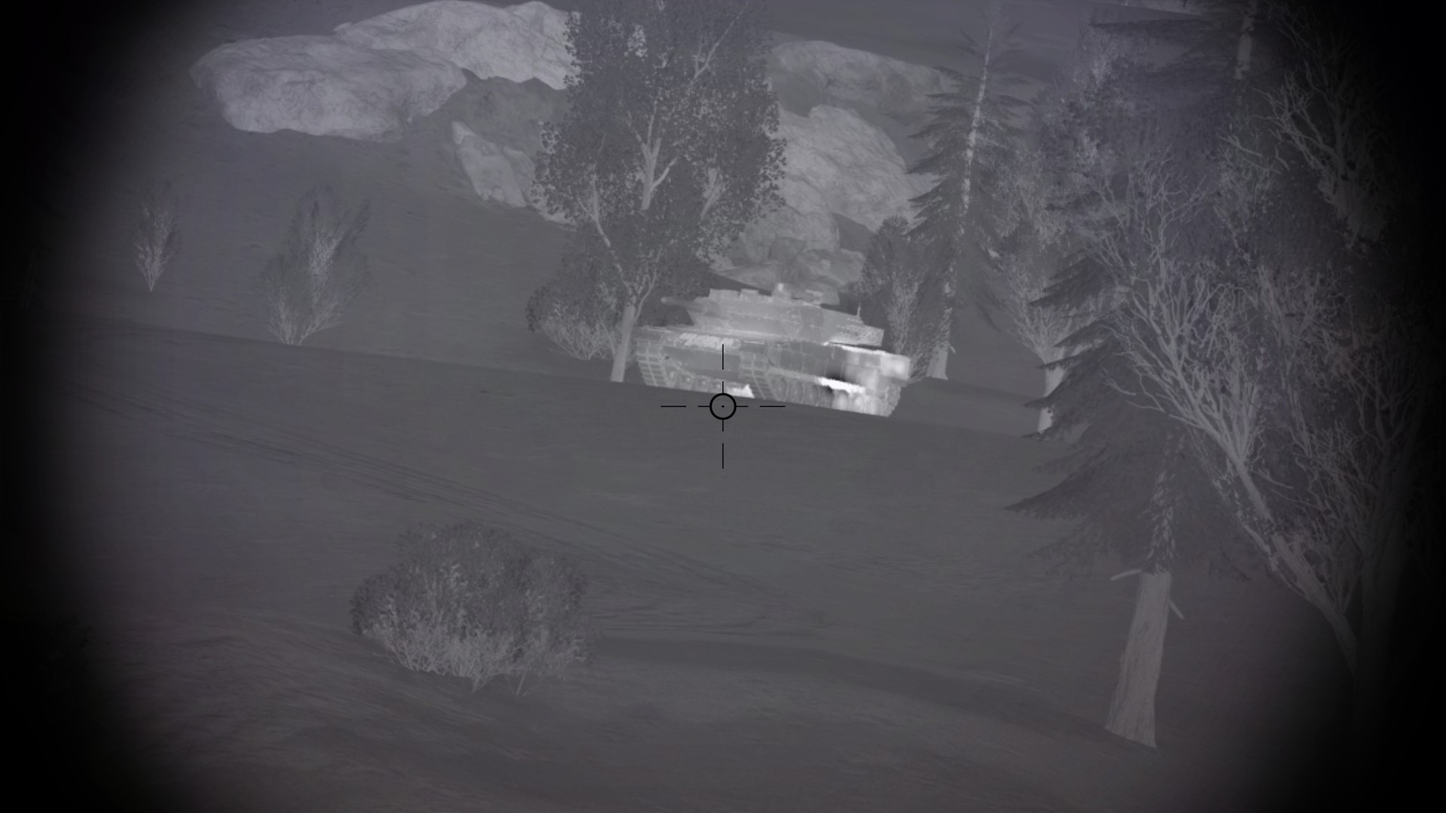leopard2: (632, 283, 912, 420)
